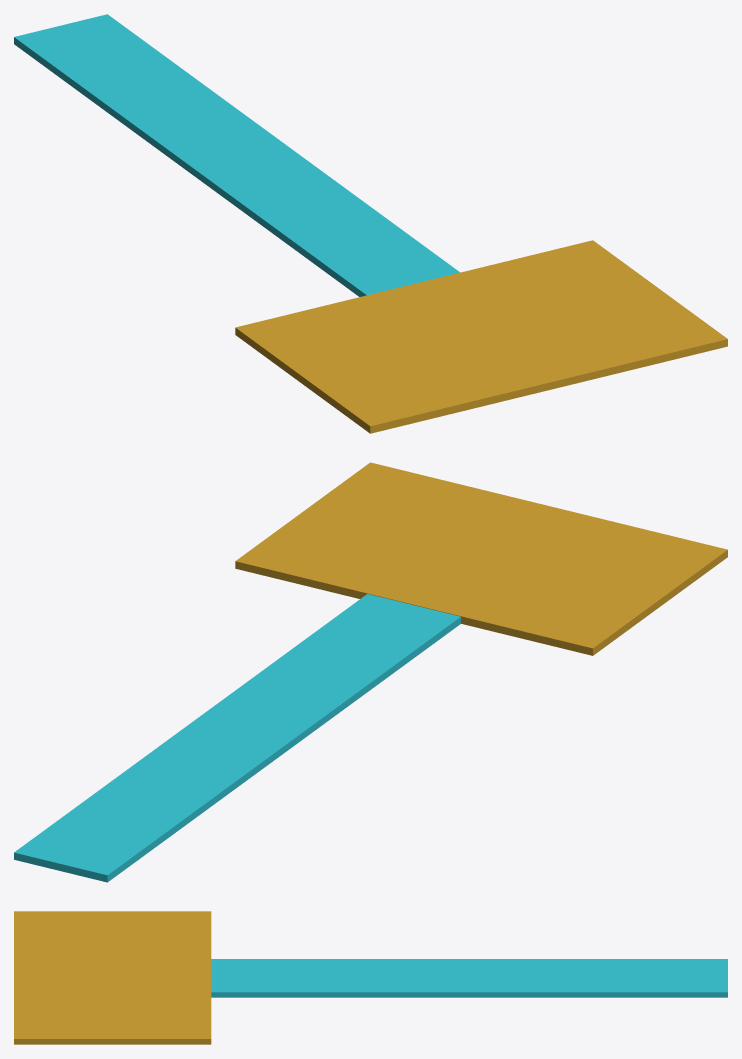
File: route.arrow_forward.glb
3 views of the same model, one above another, from view 1: azimuth 30°, elevation 25°; view 2: azimuth 150°, elevation 25°; view 3: azimuth 270°, elevation 25° (orthographic). The views are drawn at different scales.
Visible parts, largest first — view 1: route_arrow_head, route_arrow_shaft; view 2: route_arrow_head, route_arrow_shaft; view 3: route_arrow_head, route_arrow_shaft.
Boxes of the visible parts, <box> form: route_arrow_head: <box>235,240,727,433</box>; route_arrow_shaft: <box>14,14,459,296</box>; route_arrow_head: <box>235,462,727,655</box>; route_arrow_shaft: <box>14,594,460,882</box>; route_arrow_head: <box>14,911,211,1044</box>; route_arrow_shaft: <box>211,959,727,997</box>.
Size of the model in its own units: 1.3 by 0.0265 by 3.08.
